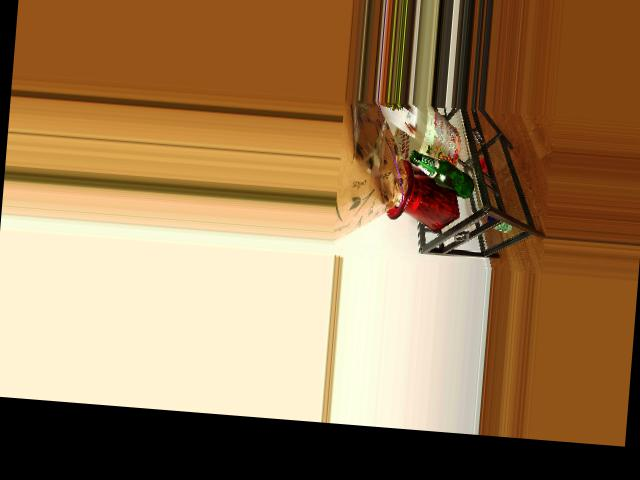beer: (407, 150, 476, 199)
